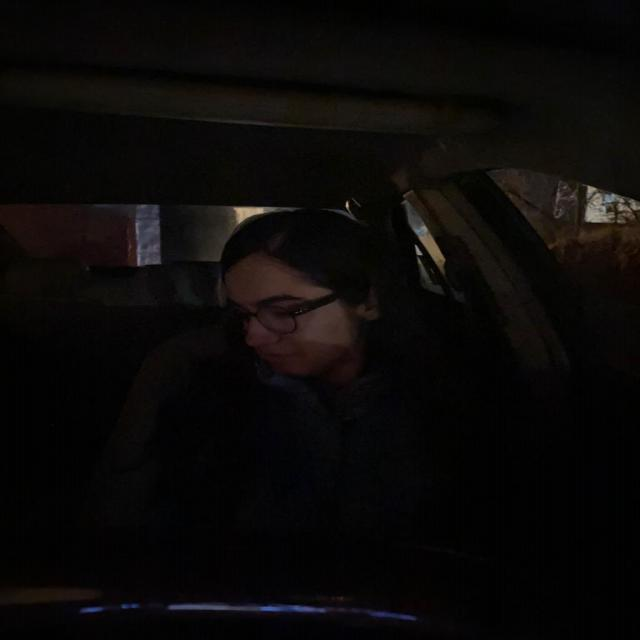drowsy: (208, 202, 404, 396)
